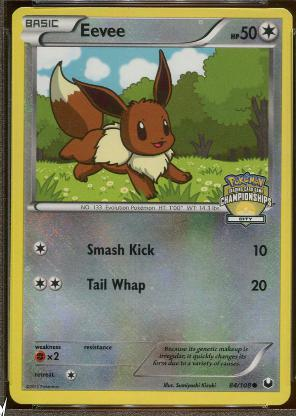Card: (8, 6, 290, 408)
